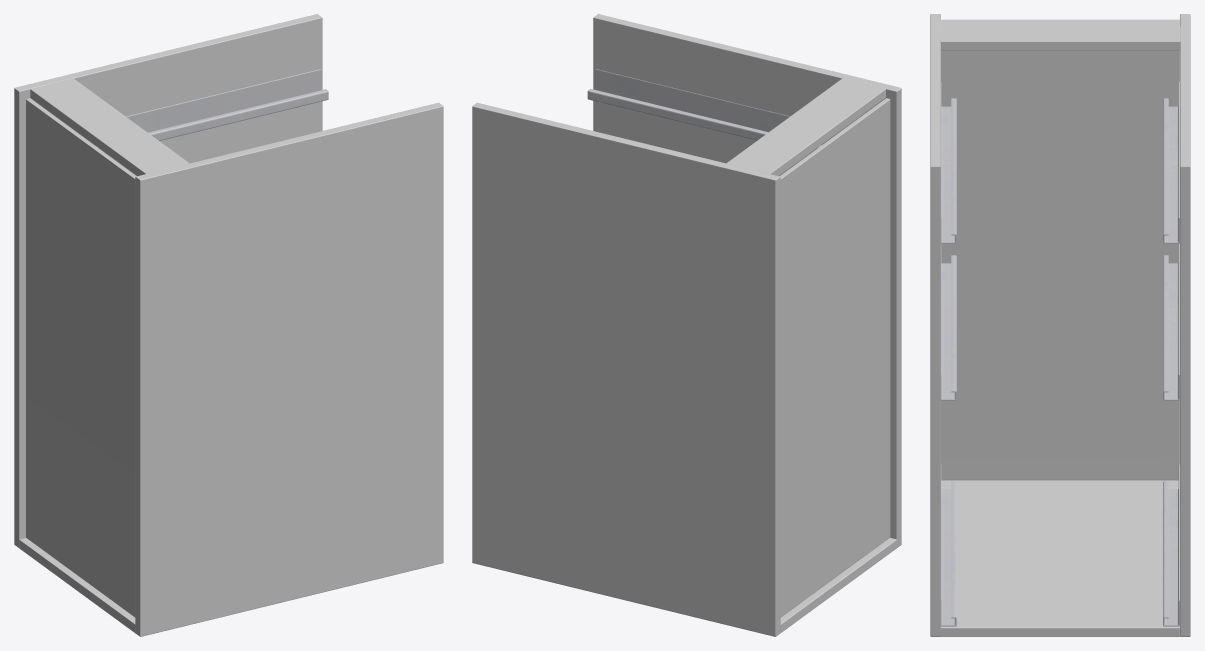
The model's file is Kitchen06Base.fbx.
The picture shows the model from 3 angles, left to right: view 1: azimuth 30°, elevation 25°; view 2: azimuth 150°, elevation 25°; view 3: azimuth 270°, elevation 25°; orthographic projection. The views are drawn at different scales.
Parts seen in each view (by area): view 1: Kitchen06Base; view 2: Kitchen06Base; view 3: Kitchen06Base.
Boxes of the visible parts, bbox=[...] form: Kitchen06Base: bbox=[14, 14, 443, 636]; Kitchen06Base: bbox=[472, 14, 901, 636]; Kitchen06Base: bbox=[930, 14, 1190, 636].
Size of the model in its own units: 55.49 by 39.96 by 79.8.
2 materials, 1 textured.
